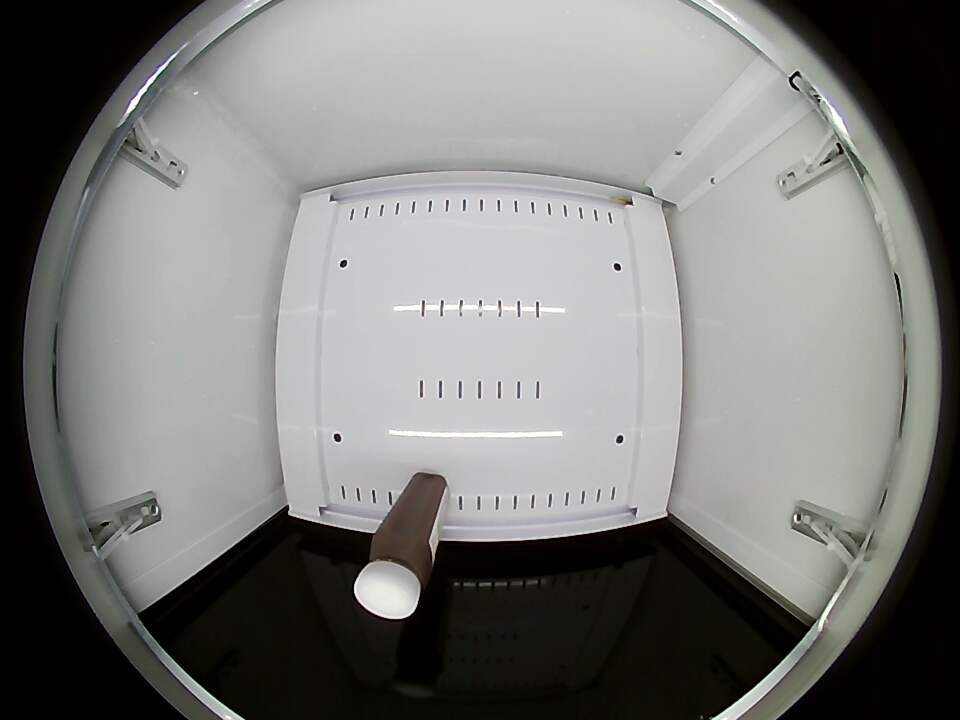youyanggudong: (353, 526, 439, 620)
